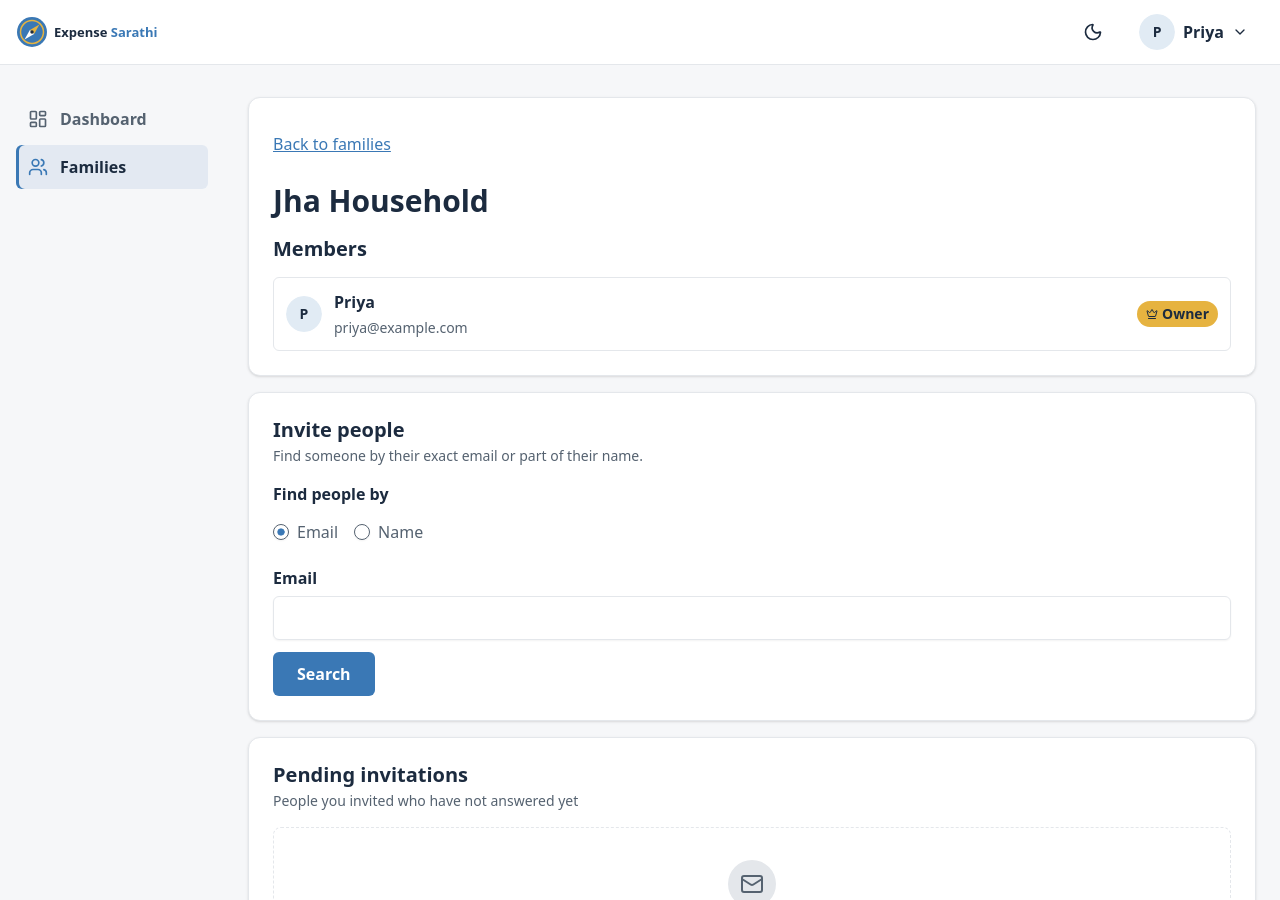
Test case: Family detail page › shows masked emails for a name search
This screenshot has width=1280, height=900.
Click the 2nd radio button named "Name" at (362, 532), box [354,524,370,540]
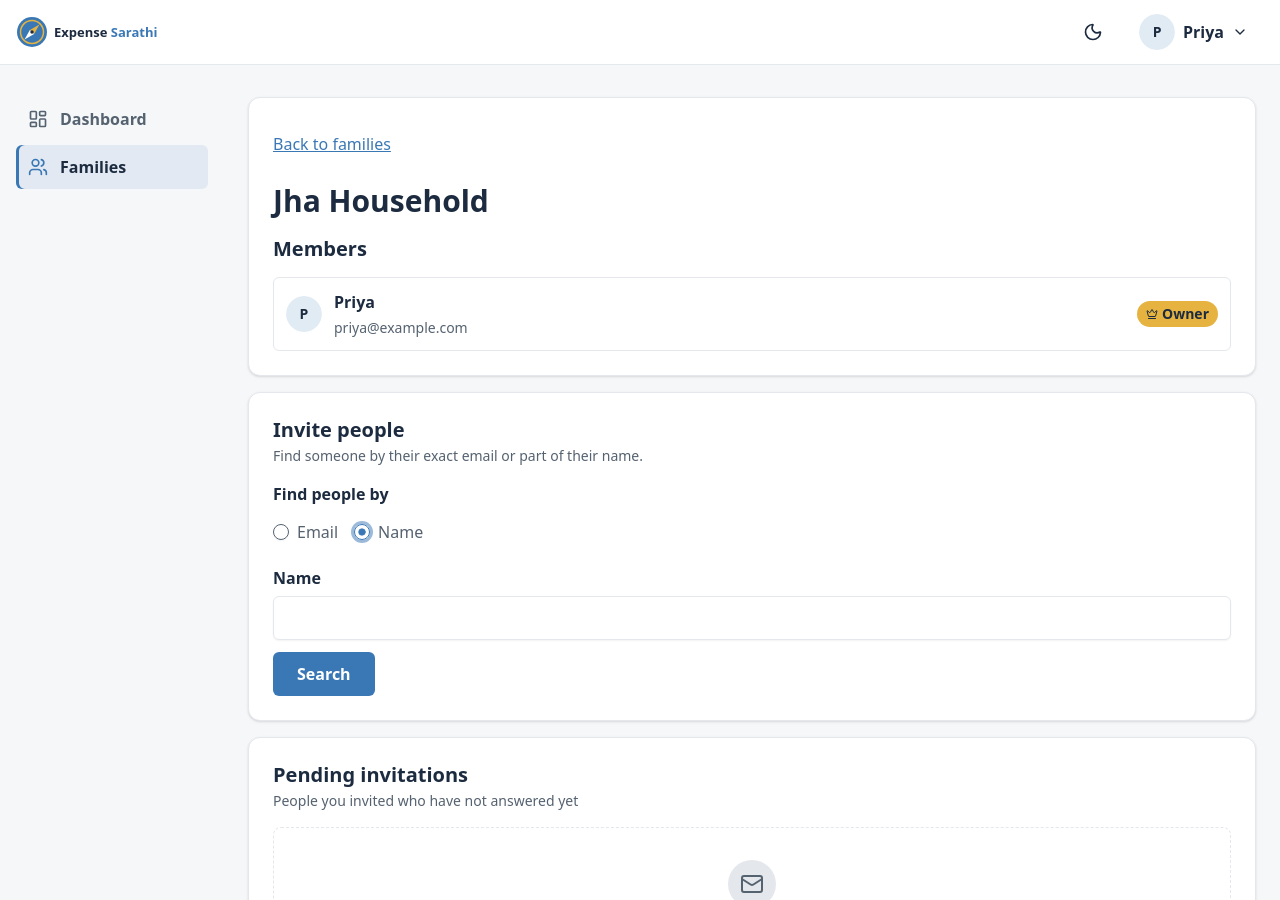
Type "rav" into the field labelled "Name" at (752, 618), box [273,596,1231,640]
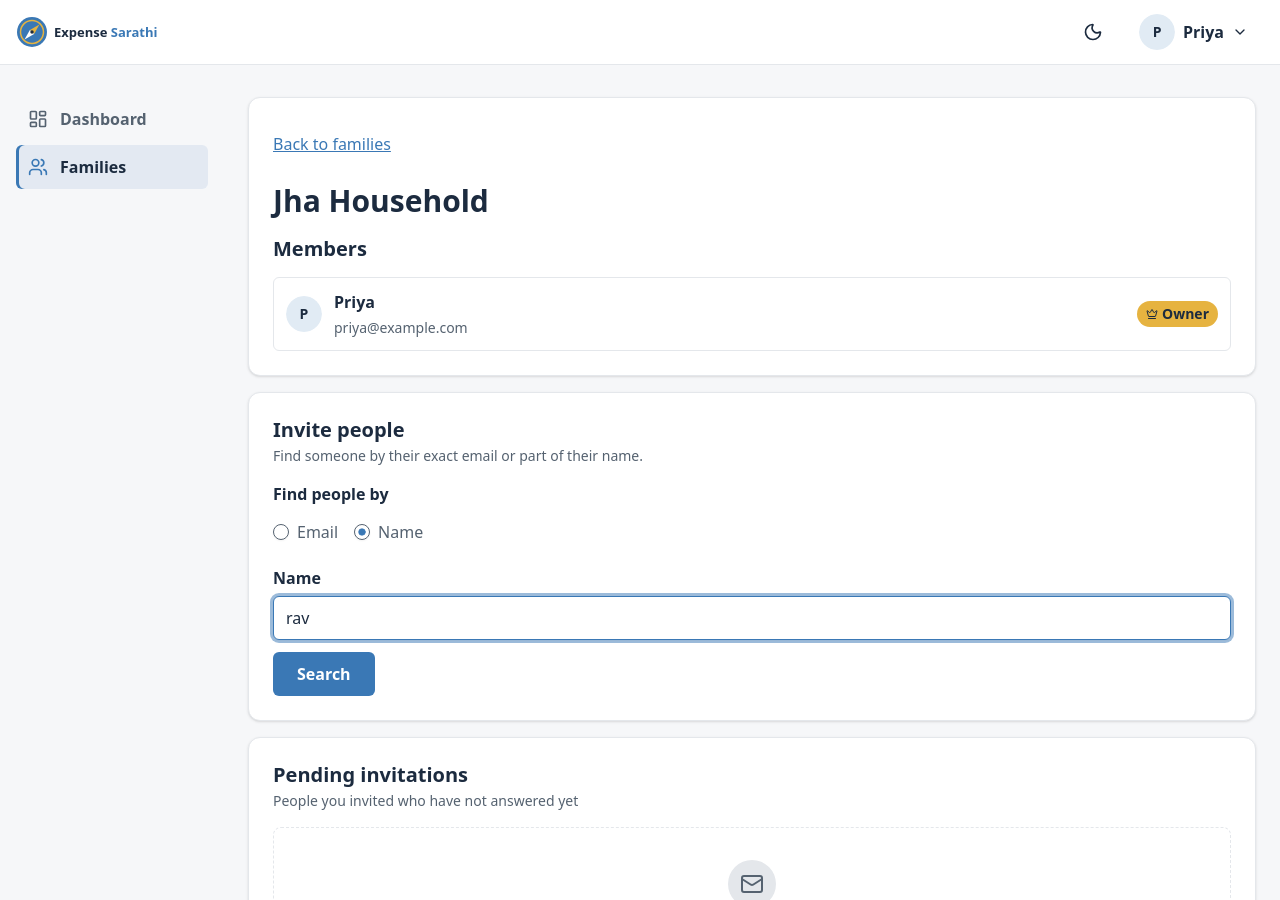
Click the button "Search" at (324, 674), box [273,652,375,696]
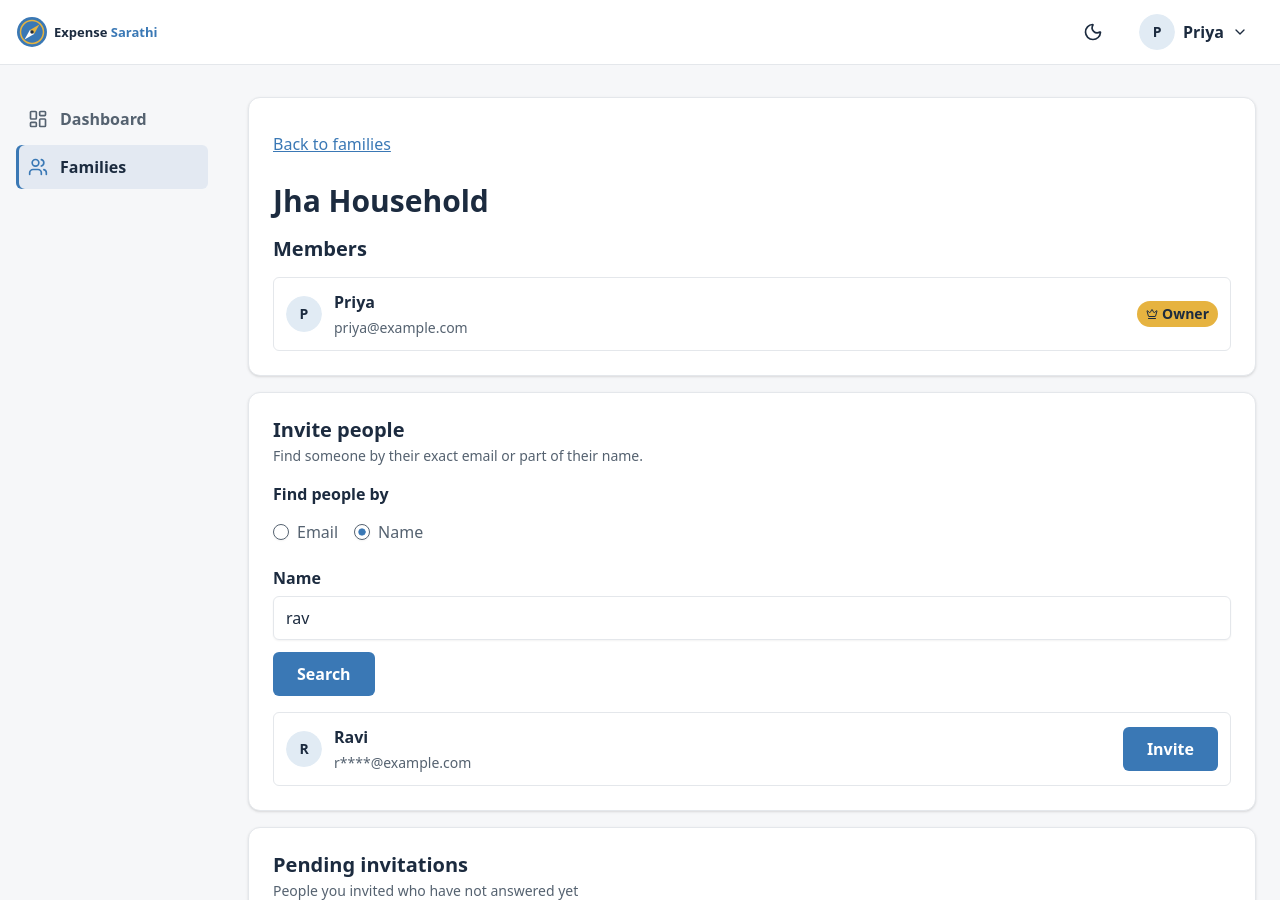
Expected: the text "r****@example.com" is shown, [334,752,471,772]
